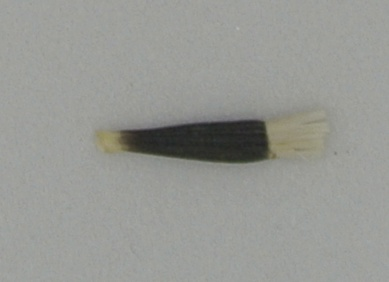เมล็ดดีติดกัน: (91, 110, 332, 165)
